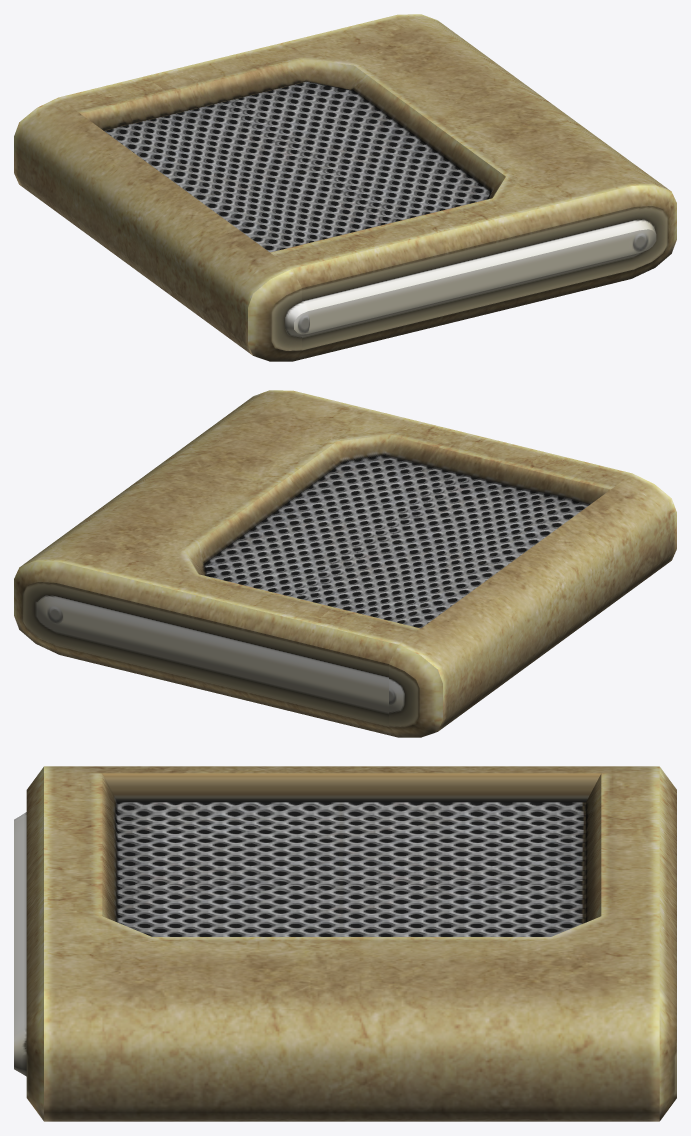
The model's file is platform03.FBX.
The picture shows the model from 3 angles, top to bottom: view 1: azimuth 30°, elevation 25°; view 2: azimuth 150°, elevation 25°; view 3: azimuth 270°, elevation 25°; orthographic projection. The views are drawn at different scales.
Visible parts, largest first — view 1: platform02; view 2: platform02; view 3: platform02.
Part boxes in pixels (x1,y1,x2,y2): platform02: (14,14,676,361); platform02: (14,390,676,737); platform02: (14,766,676,1121).
Bounding box in the file's own units: 69.69 × 14.43 × 70.91.
